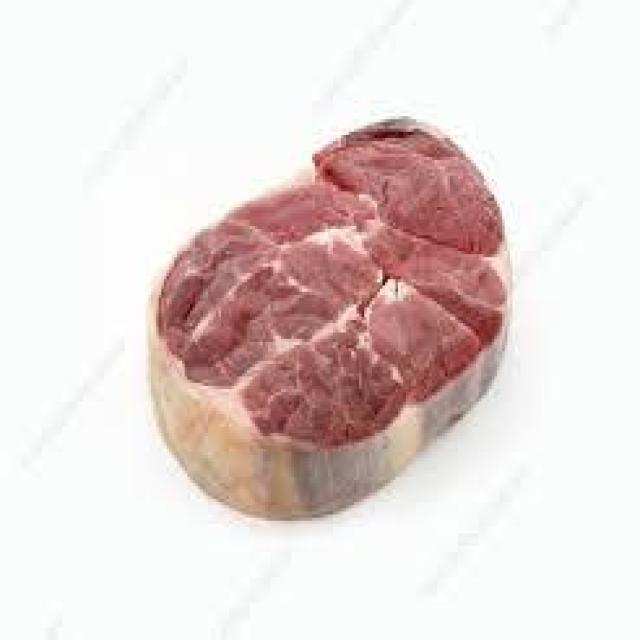Wet Waste: (126, 94, 526, 528)
